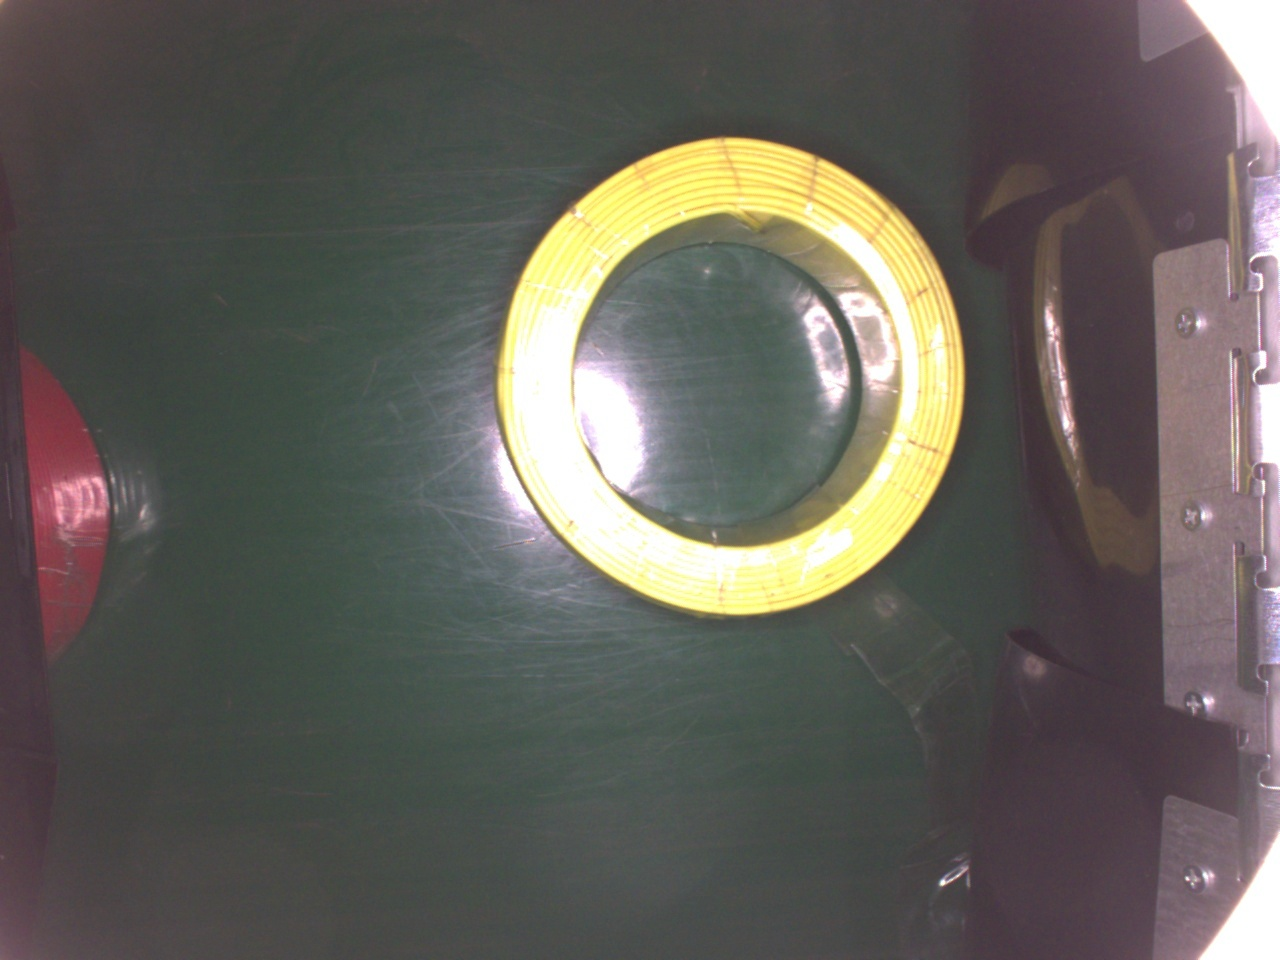yellow: (493, 131, 977, 624)
